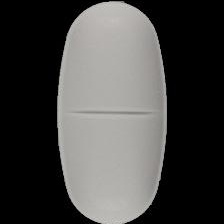0597-0046: (0, 0, 224, 224)
